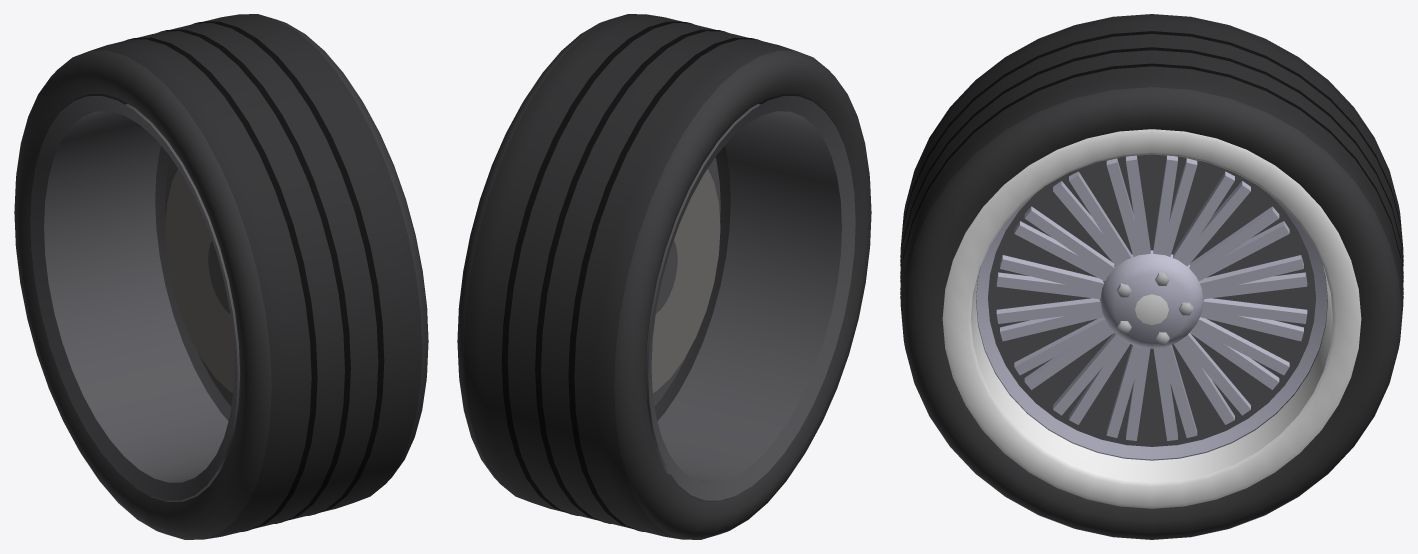
File: wheel_lada_mesh.glb
3 views of the same model, side by side, from view 1: azimuth 30°, elevation 25°; view 2: azimuth 150°, elevation 25°; view 3: azimuth 270°, elevation 25° (orthographic).
Visible parts, largest first — view 1: wheel_lada_mesh; view 2: wheel_lada_mesh; view 3: wheel_lada_mesh.
Part boxes in pixels (x1,y1,x2,y2): wheel_lada_mesh: [14, 14, 428, 539]; wheel_lada_mesh: [457, 14, 871, 539]; wheel_lada_mesh: [900, 14, 1403, 539].
Size of the model in its own units: 0.245 by 0.5912 by 0.5912.
1 material, 1 textured.
